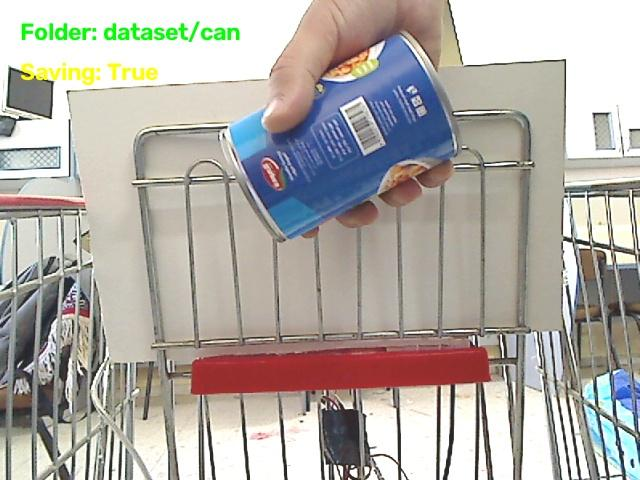can: (221, 33, 458, 239)
